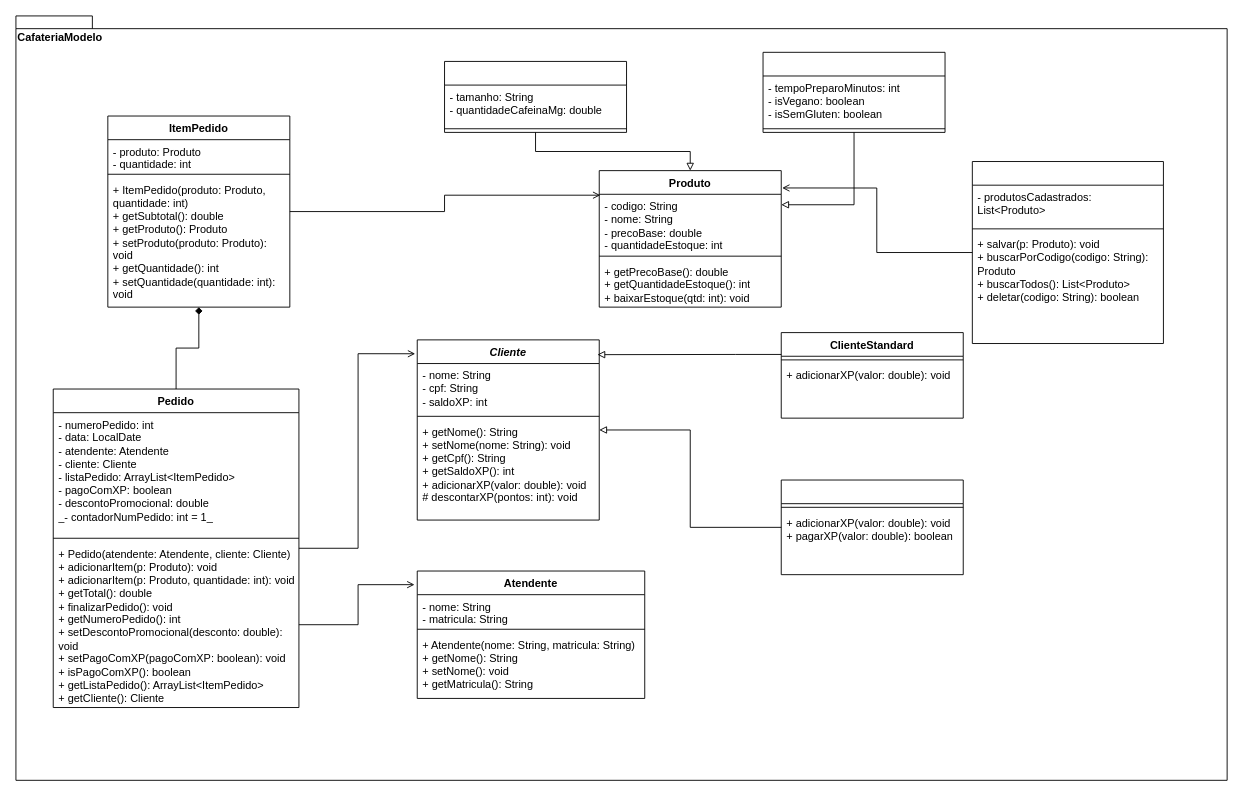
Some shapes in this 1243 by 796 pixel diagram are drawn without their labels. Each missing label, with the box of its shape:
Bebida: (444, 61, 627, 132)
ClienteVIP: (780, 479, 963, 575)
Comida: (762, 51, 945, 132)
ProdutoRepository: (971, 161, 1163, 344)
